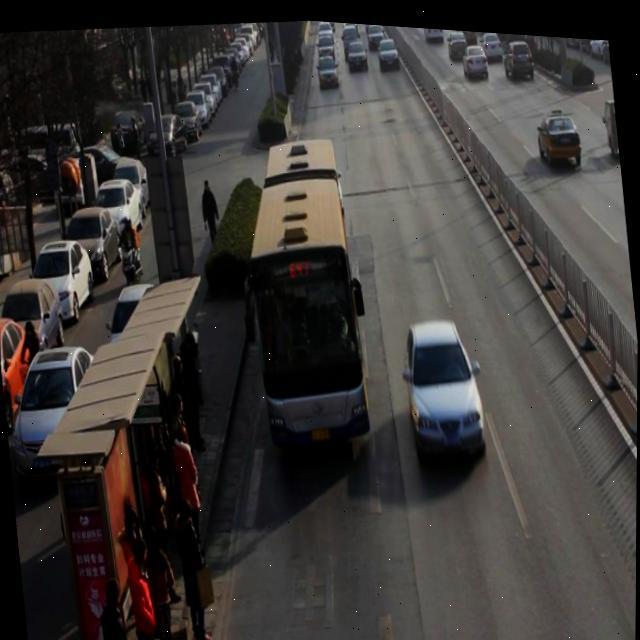car: (400, 309, 489, 462), (535, 98, 584, 163), (502, 29, 536, 76), (461, 36, 489, 75), (377, 30, 400, 66), (317, 50, 340, 85), (480, 25, 504, 56), (446, 23, 469, 54), (347, 34, 368, 67)
van: (237, 134, 371, 446)
